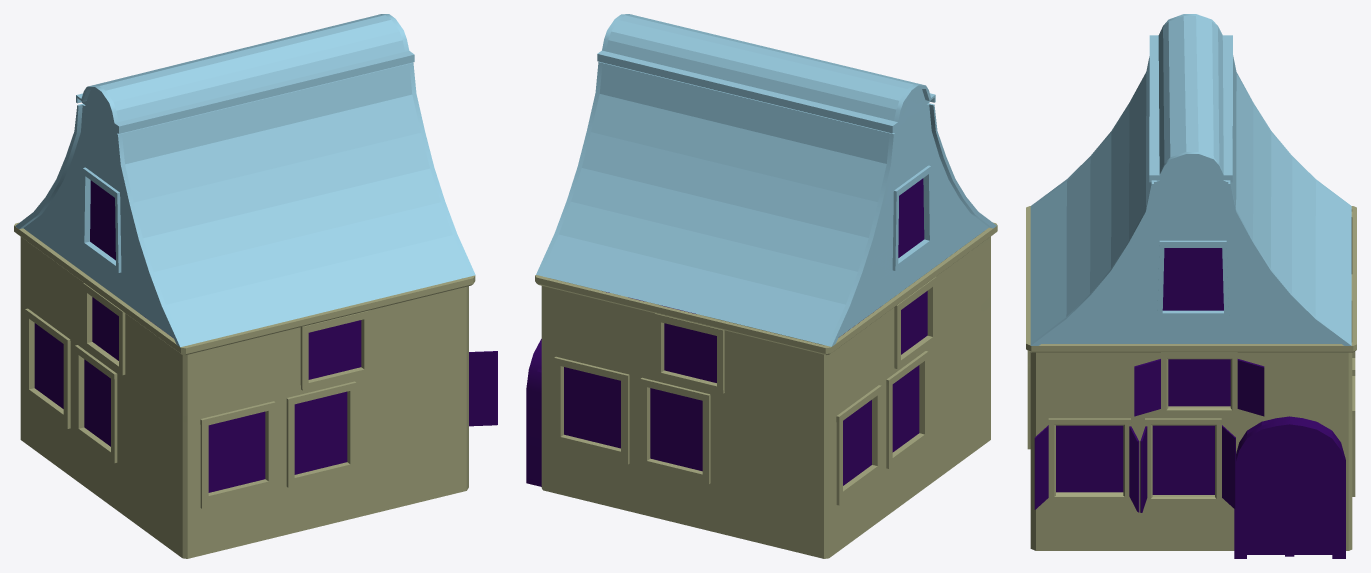
File: House_ArtTest_3.fbx
The picture shows the model from 3 angles, left to right: view 1: azimuth 30°, elevation 25°; view 2: azimuth 150°, elevation 25°; view 3: azimuth 270°, elevation 25°; orthographic projection. The views are drawn at different scales.
Visible parts, largest first — view 1: pPlane30, pPlane20; view 2: pPlane30, pPlane20, pPlane31; view 3: pPlane30, pPlane20, pPlane31.
Part boxes in pixels (x1,y1,x2,y2): pPlane30: (15, 14, 475, 347); pPlane20: (14, 222, 497, 558); pPlane30: (536, 14, 996, 346); pPlane20: (535, 222, 997, 558); pPlane31: (526, 339, 541, 486); pPlane30: (1030, 14, 1351, 345); pPlane20: (1026, 206, 1356, 550); pPlane31: (1234, 416, 1345, 558).
Bounding box in the file's own units: 8.76 × 10.55 × 7.93.
